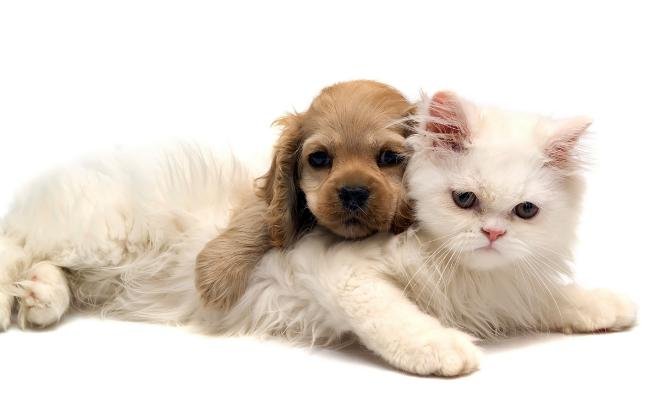cats: (413, 86, 656, 394)
dogs: (193, 68, 417, 317)
